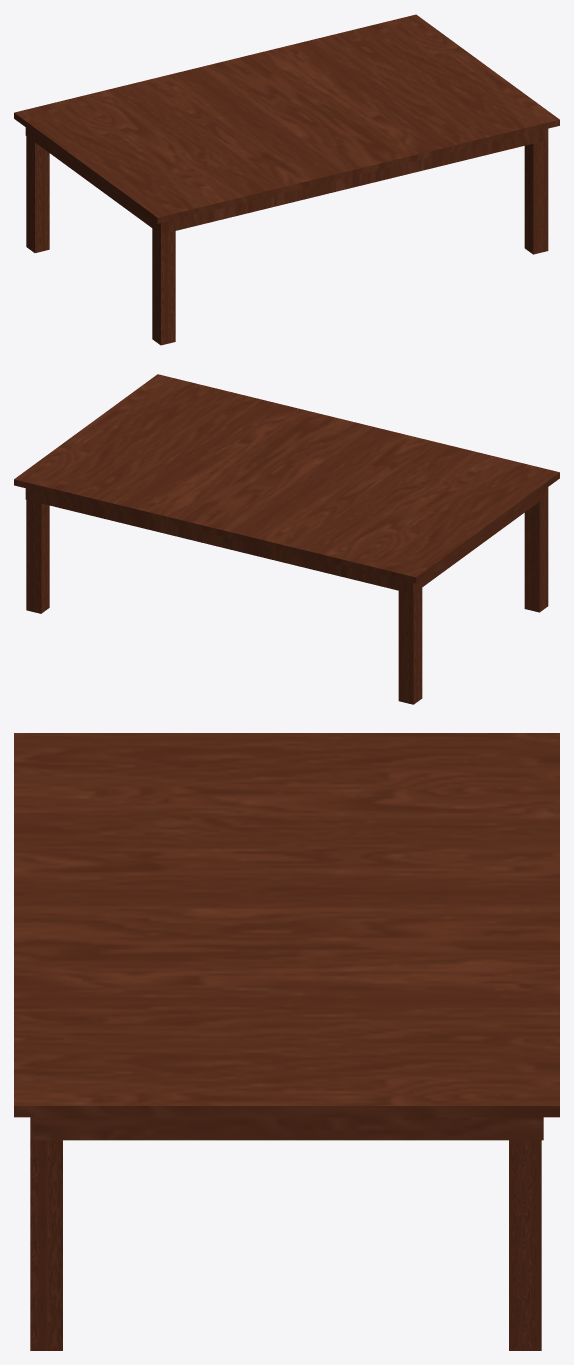
The model's file is long_table.fbx.
3 views of the same model, one above another, from view 1: azimuth 30°, elevation 25°; view 2: azimuth 150°, elevation 25°; view 3: azimuth 270°, elevation 25° (orthographic). The views are drawn at different scales.
Parts seen in each view (by area): view 1: table, table_leg, table_leg1, table_leg2; view 2: table, table_leg2, table_leg1, table_leg3; view 3: table, table_leg, table_leg3.
Part boxes in pixels (x1=…): table: x1=14, y1=14, x2=559, y2=234; table_leg: x1=524, y1=140, x2=548, y2=254; table_leg1: x1=152, y1=228, x2=175, y2=345; table_leg2: x1=26, y1=136, x2=49, y2=252; table: x1=14, y1=374, x2=559, y2=593; table_leg2: x1=398, y1=588, x2=422, y2=704; table_leg1: x1=524, y1=495, x2=548, y2=612; table_leg3: x1=26, y1=500, x2=49, y2=613; table: x1=14, y1=733, x2=559, y2=1140; table_leg: x1=30, y1=1140, x2=62, y2=1350; table_leg3: x1=509, y1=1140, x2=541, y2=1350.
Bounding box in the file's own units: 269 × 84.93 × 167.
Materials: 1 (1 with a texture image).
